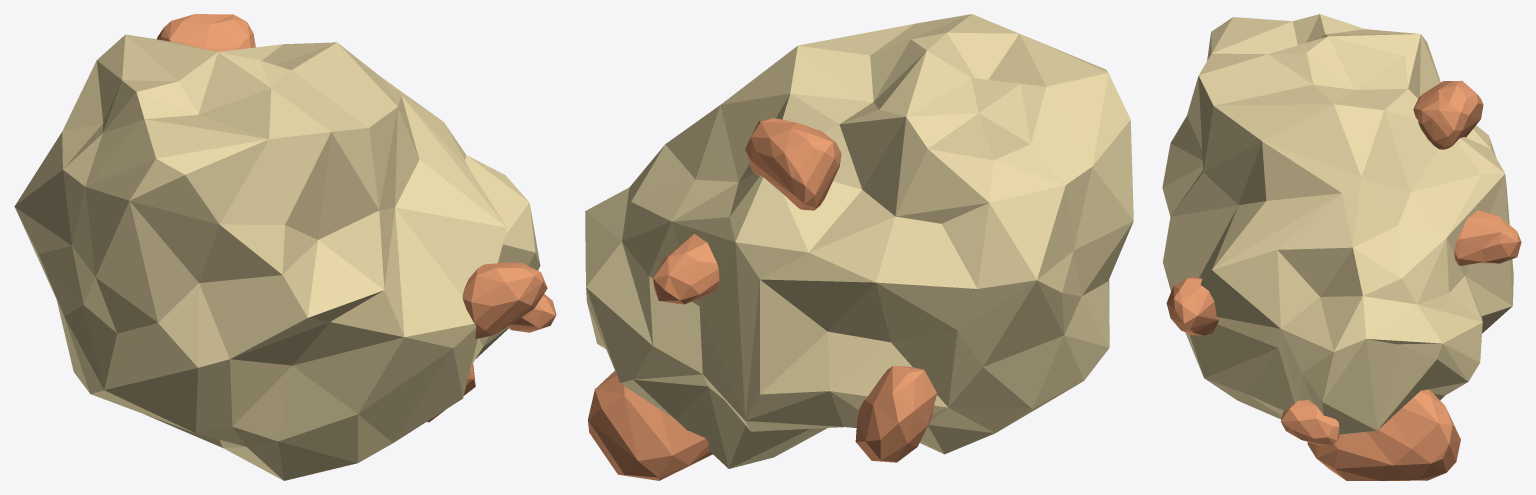
File: StoneOre (60).fbx
The picture shows the model from 3 angles, left to right: view 1: azimuth 30°, elevation 25°; view 2: azimuth 150°, elevation 25°; view 3: azimuth 270°, elevation 25°; orthographic projection. The views are drawn at different scales.
Visible parts, largest first — view 1: Asteroid347; view 2: Asteroid347; view 3: Asteroid347.
Part boxes in pixels (x1=…): Asteroid347: x1=14, y1=14, x2=556, y2=480; Asteroid347: x1=585, y1=14, x2=1133, y2=480; Asteroid347: x1=1162, y1=14, x2=1521, y2=480.
Size of the model in its own units: 424 by 361 by 332.
